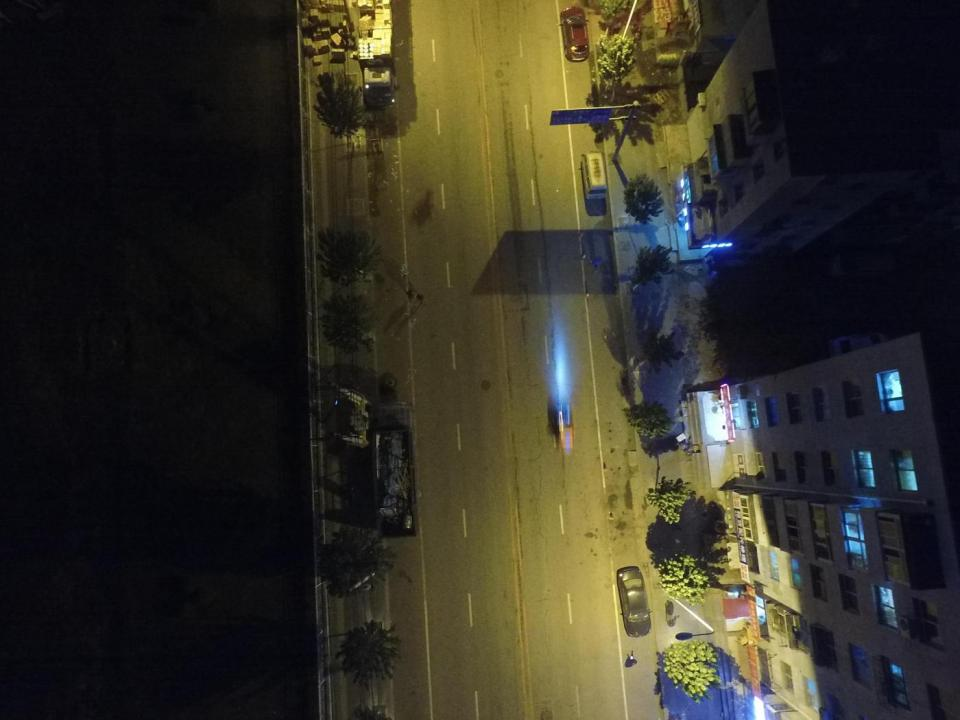car: (616, 567, 651, 637), (559, 6, 590, 62), (556, 406, 575, 448)
truck: (372, 401, 421, 538), (357, 0, 396, 108)
van: (579, 152, 607, 200)
